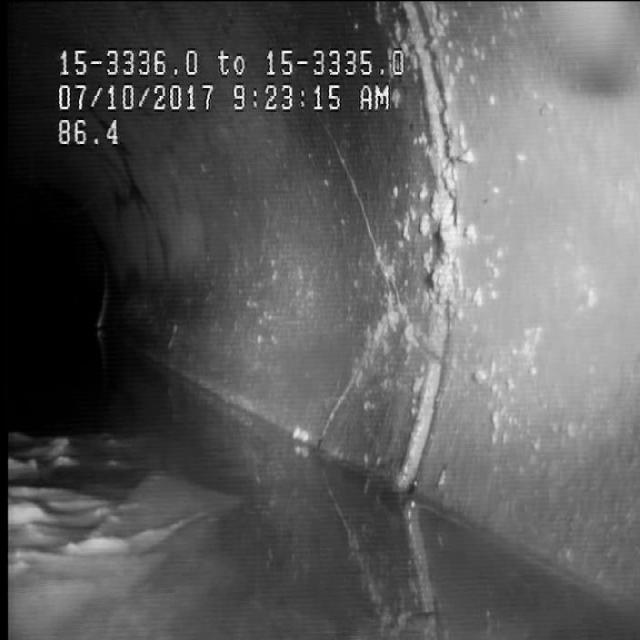Crack: (320, 162, 474, 422)
